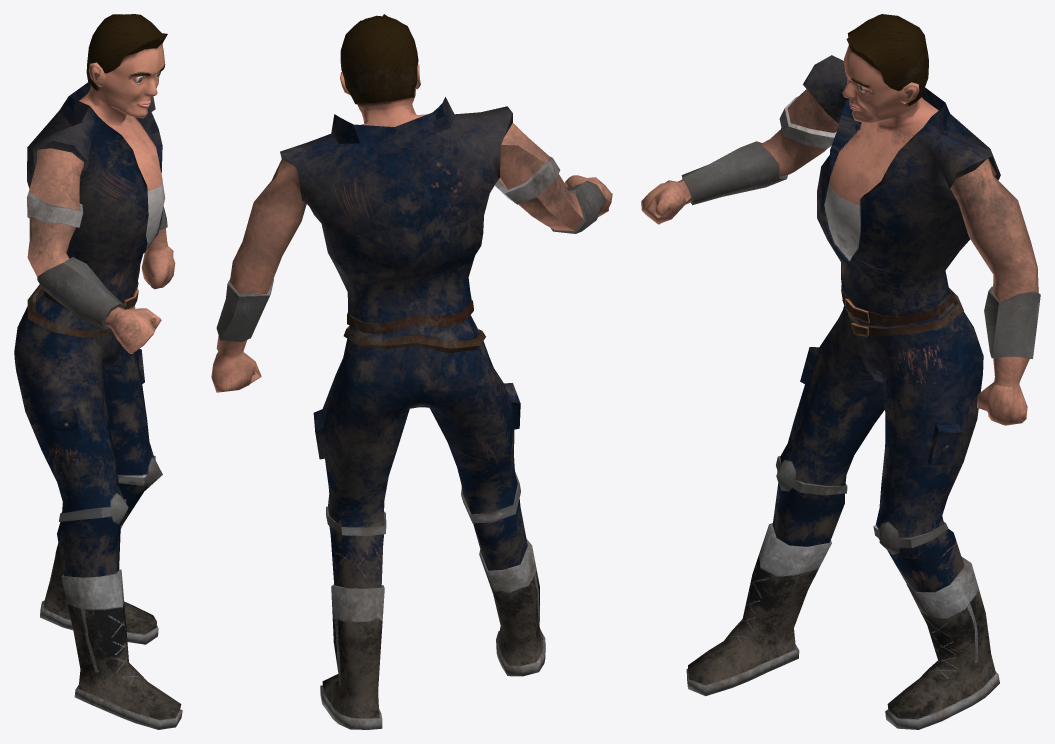
Rendered from Anim_interruptor_jugador.0031.obj.
3 views of the same model, side by side, from view 1: azimuth 30°, elevation 25°; view 2: azimuth 150°, elevation 25°; view 3: azimuth 270°, elevation 25° (orthographic). The views are drawn at different scales.
Visible parts, largest first — view 1: polySurface1; view 2: polySurface1; view 3: polySurface1.
Part boxes in pixels (x1,y1,x2,y2): polySurface1: (14,14,182,729); polySurface1: (211,14,612,729); polySurface1: (641,14,1040,729).
Size of the model in its own units: 3.77 by 9.46 by 4.95.
